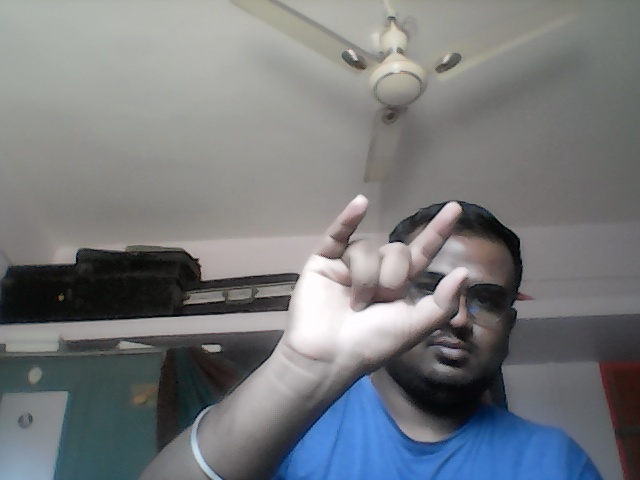I Love You: (284, 193, 472, 362)
